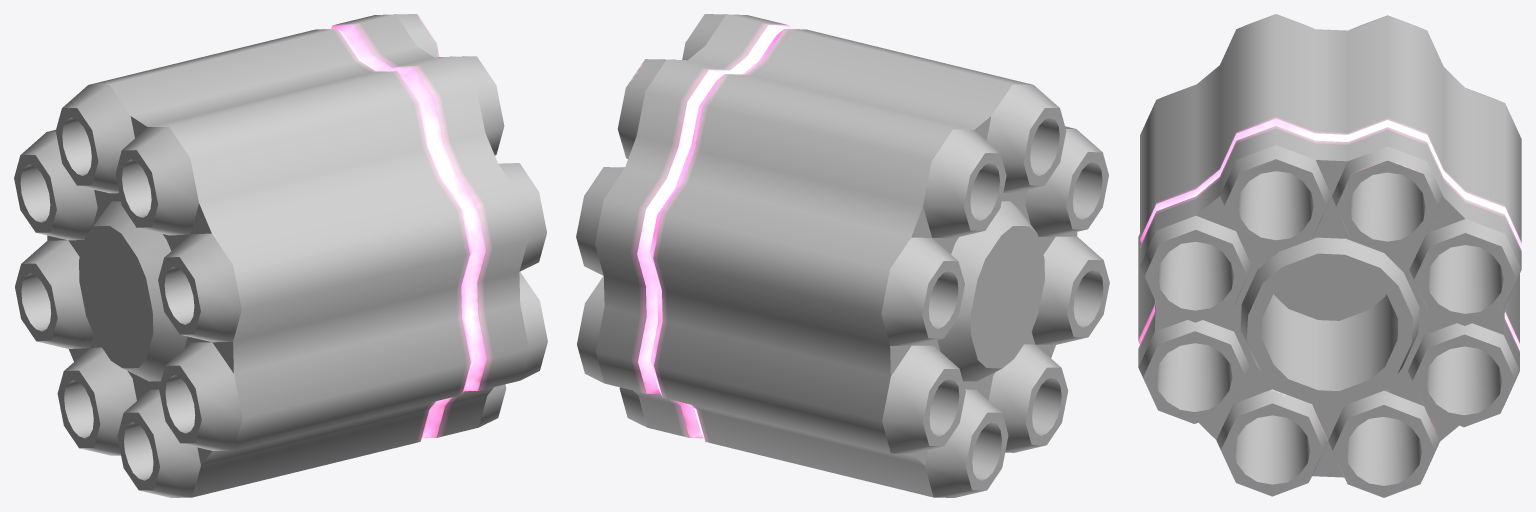
The model's file is RevolverCylinder_SM.FBX.
3 renders of one model, left to right at view 1: azimuth 30°, elevation 25°; view 2: azimuth 150°, elevation 25°; view 3: azimuth 270°, elevation 25°, orthographic. The views are drawn at different scales.
Visible parts, largest first — view 1: RevolverCylinder_SM; view 2: RevolverCylinder_SM; view 3: RevolverCylinder_SM.
Boxes of the visible parts, left/top/right/bottom form: RevolverCylinder_SM: left=14, top=14, right=547, bottom=497; RevolverCylinder_SM: left=576, top=14, right=1109, bottom=497; RevolverCylinder_SM: left=1138, top=14, right=1521, bottom=497.
Bounding box in the file's own units: 14.77 × 15.36 × 15.36.
